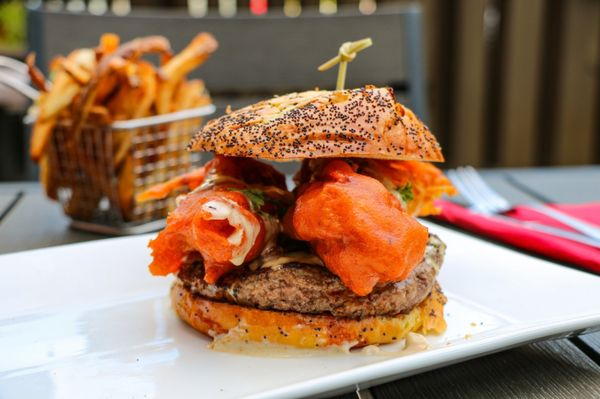soup: (144, 84, 452, 353)
